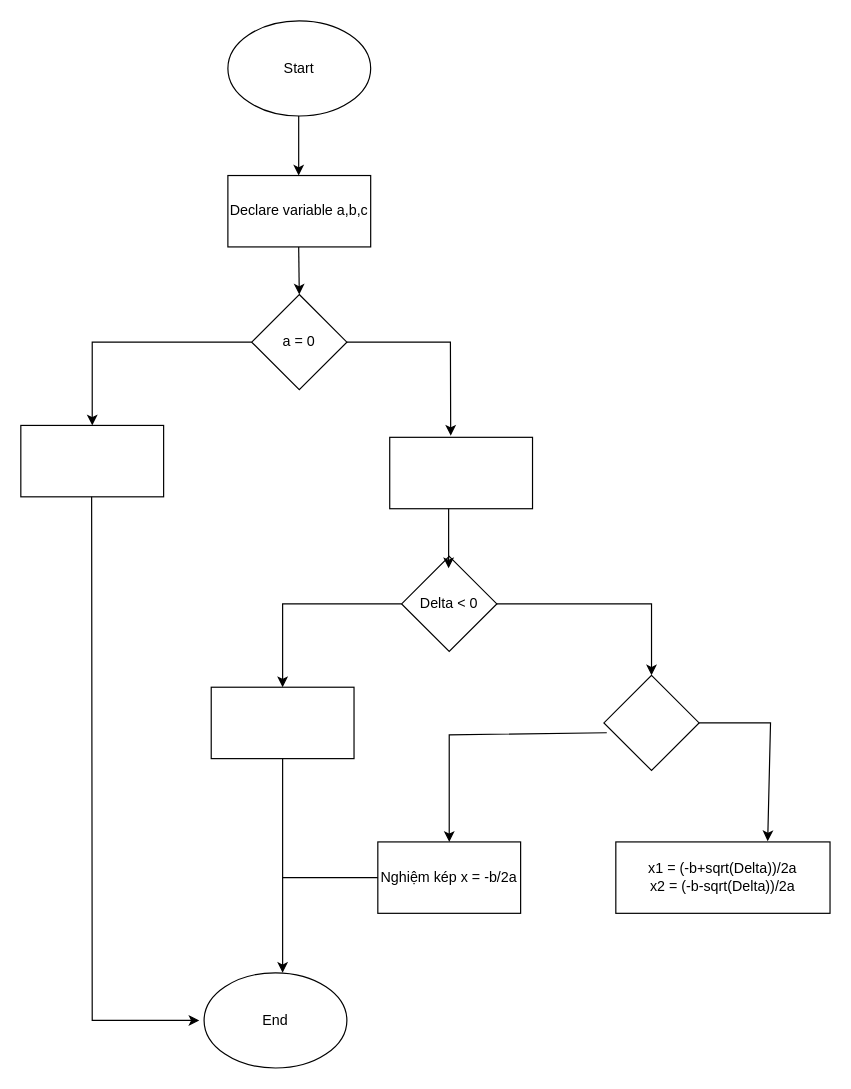
The diagram is 851 pixels wide and 1089 high, and some of its shapes have lost their labels. Each missing label, with the centre of its shape:
"Delta = 0" goes at (x=651, y=722).
"Delta = b*b - 4ac" goes at (x=461, y=472).
"Phương trình bậc 1 bx+c = 0" goes at (x=92, y=460).
"Vô nghiệm" goes at (x=282, y=722).
